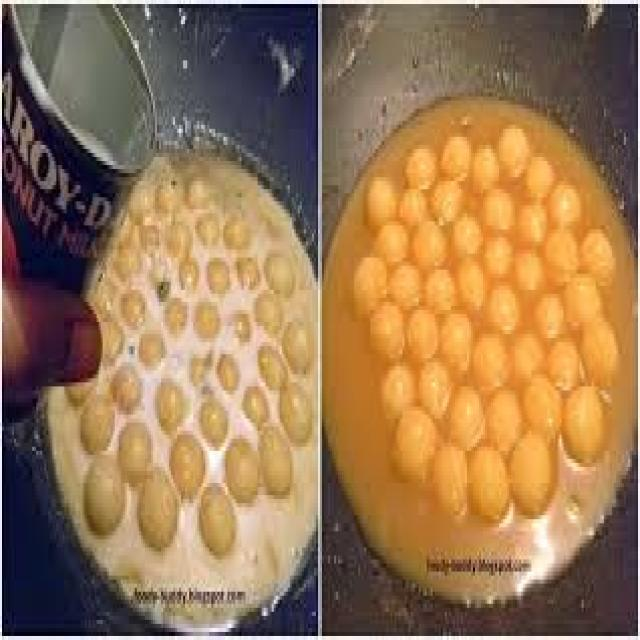paal kolukattai: (346, 105, 640, 535)
